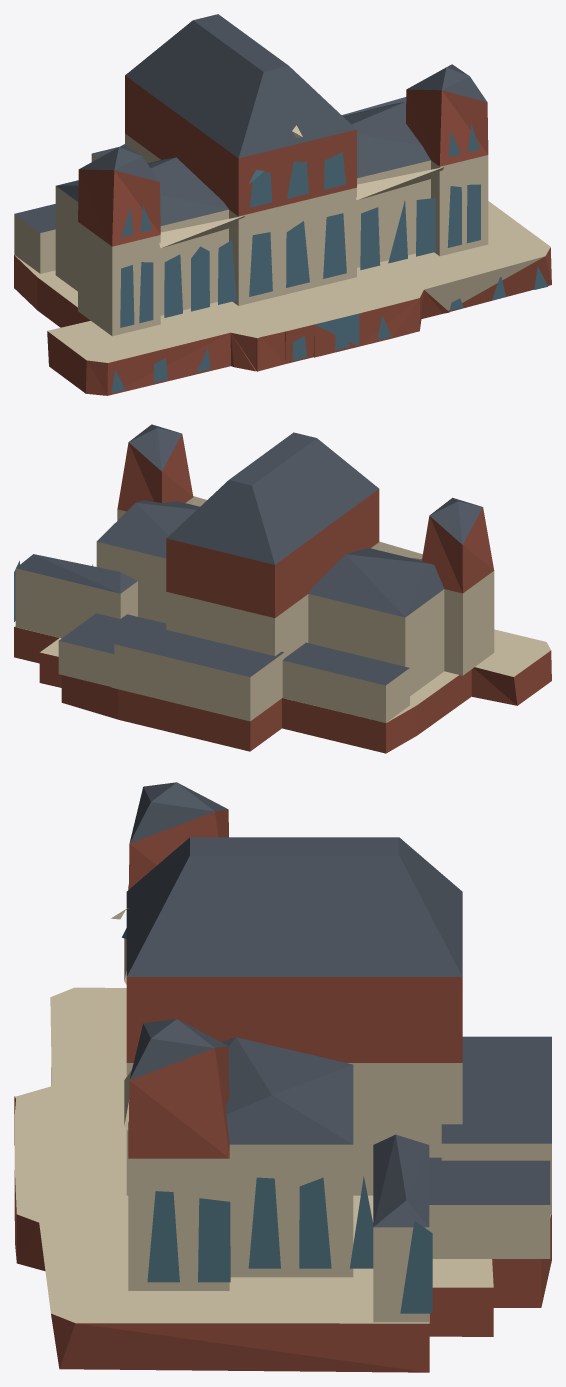
File: idfa-pavilion.lod2.glb
3 renders of one model, top to bottom at view 1: azimuth 30°, elevation 25°; view 2: azimuth 150°, elevation 25°; view 3: azimuth 270°, elevation 25°, orthographic. The views are drawn at different scales.
Parts seen in each view (by area): view 1: lod2; view 2: lod2; view 3: lod2.
Part boxes in pixels (x1,y1,x2,y2): lod2: (14, 14, 551, 395); lod2: (14, 424, 551, 753); lod2: (14, 782, 551, 1372).
Bounding box in the file's own units: 44.09 × 21.72 × 29.79.
